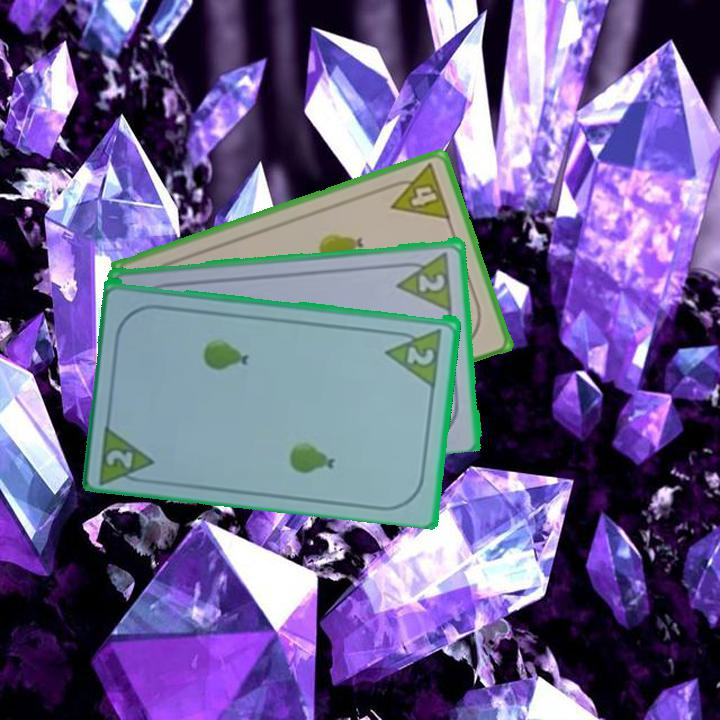2p: (95, 418, 159, 486), (403, 341, 438, 367), (415, 270, 448, 295)
4p: (381, 160, 454, 223)
